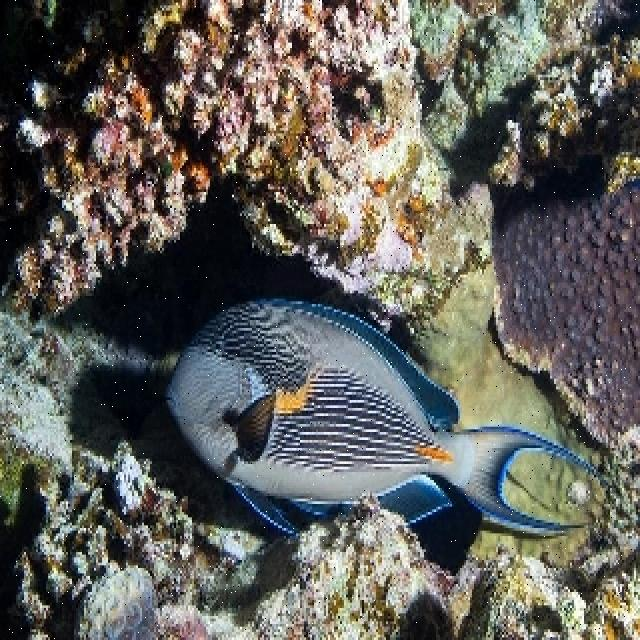fish: (166, 300, 603, 537)
reefs: (7, 2, 446, 318), (157, 489, 486, 637), (412, 2, 638, 190), (491, 179, 638, 448), (14, 437, 193, 637), (461, 553, 637, 636), (81, 568, 162, 637)
